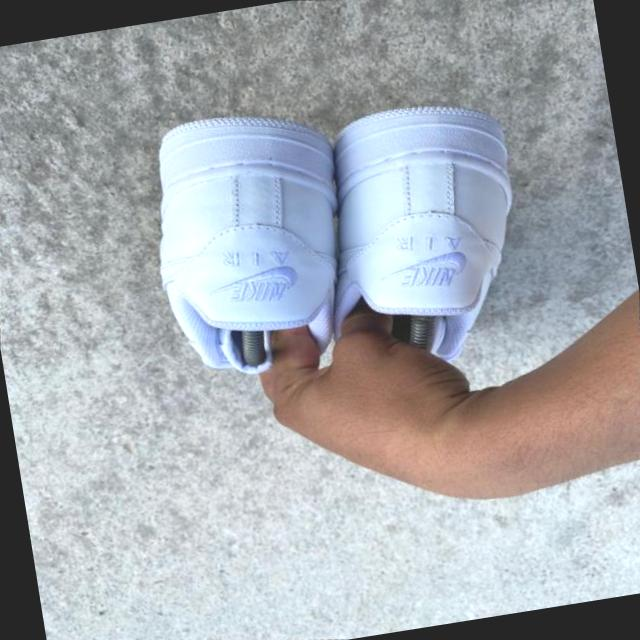nike_original_airforce: (298, 72, 556, 404), (113, 90, 374, 400)
